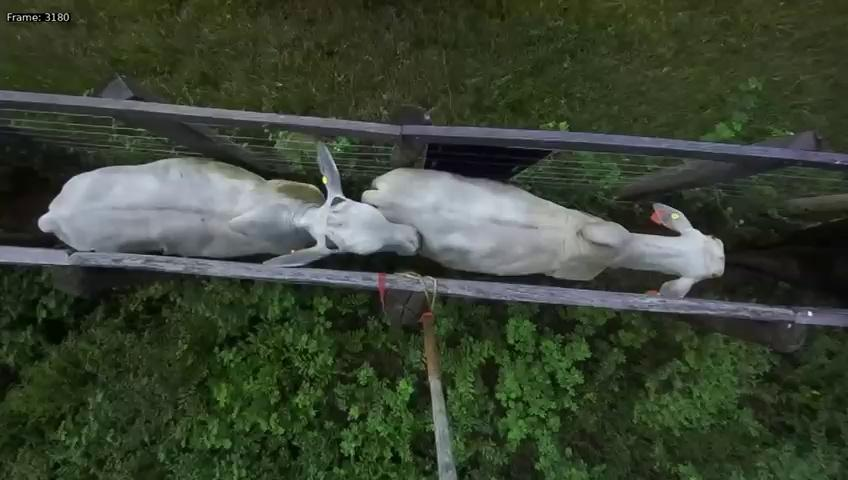cattle: (34, 134, 457, 269), (359, 157, 736, 305)
